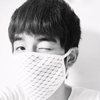face_mask: (9, 23, 63, 93)
